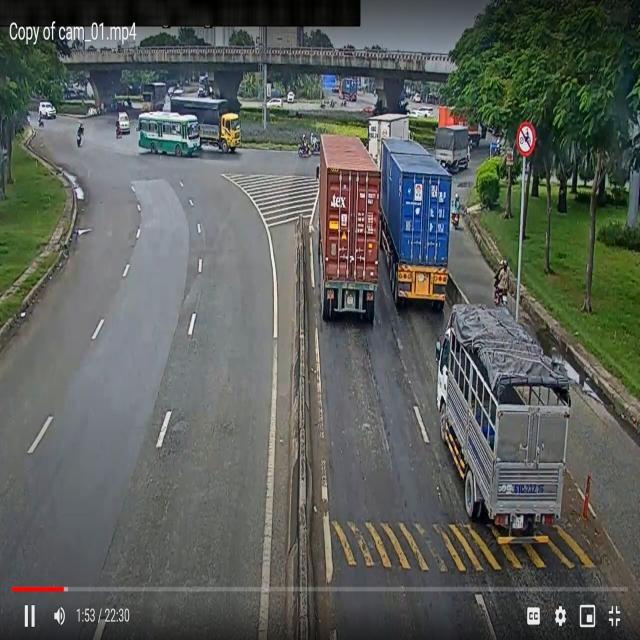bus: (134, 104, 212, 159)
truck: (429, 297, 569, 544), (310, 128, 386, 333), (369, 132, 454, 312)
